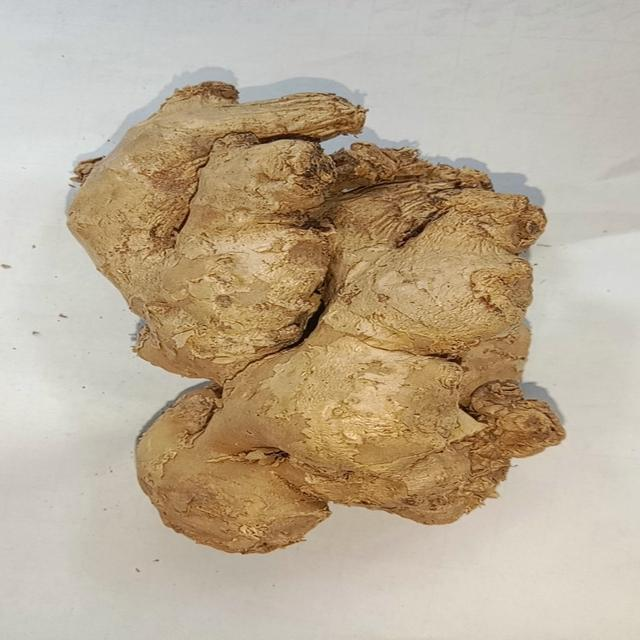ginger: (80, 81, 575, 554)
